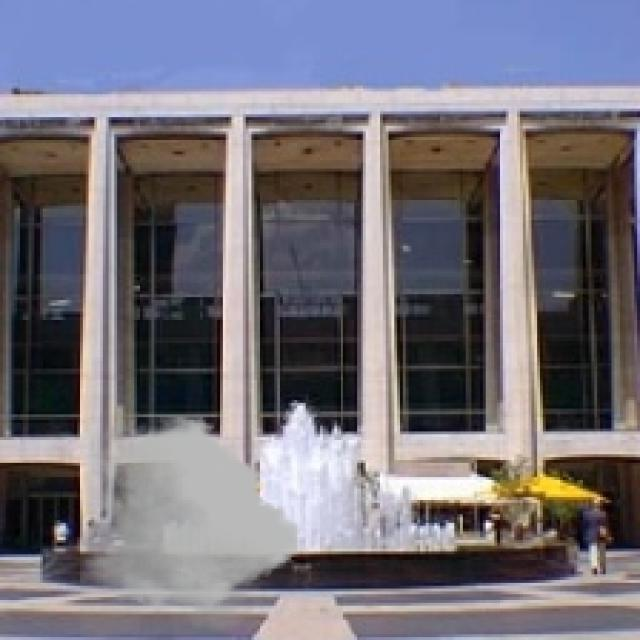smoke: (80, 412, 300, 637)
